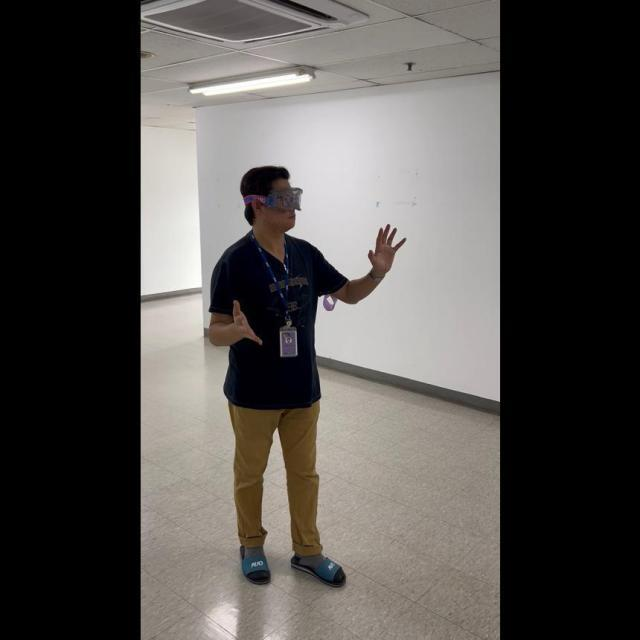bare_hand: (365, 217, 404, 278), (220, 298, 257, 345)
